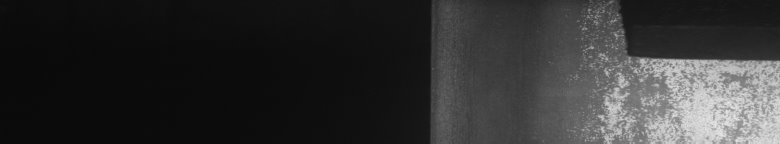kb: (577, 9, 776, 132)
